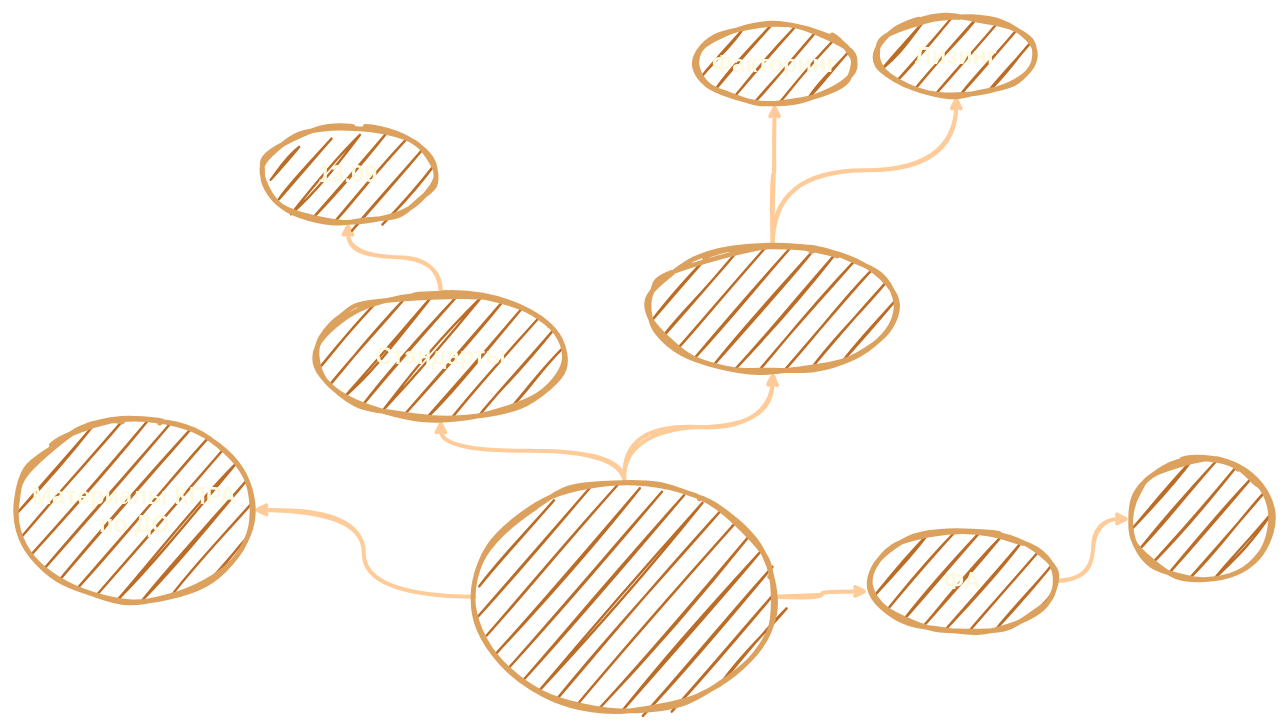
The diagram is 1288 pixels wide and 727 high, and some of its shapes have lost their labels. Here are the shapes that lost their labels. From the top down, the box of each, then its label:
(645, 243, 899, 374): Фин. инструменты
(1127, 456, 1274, 581): По каким параметрам нужно делать ФА
(472, 480, 777, 713): Инвест
